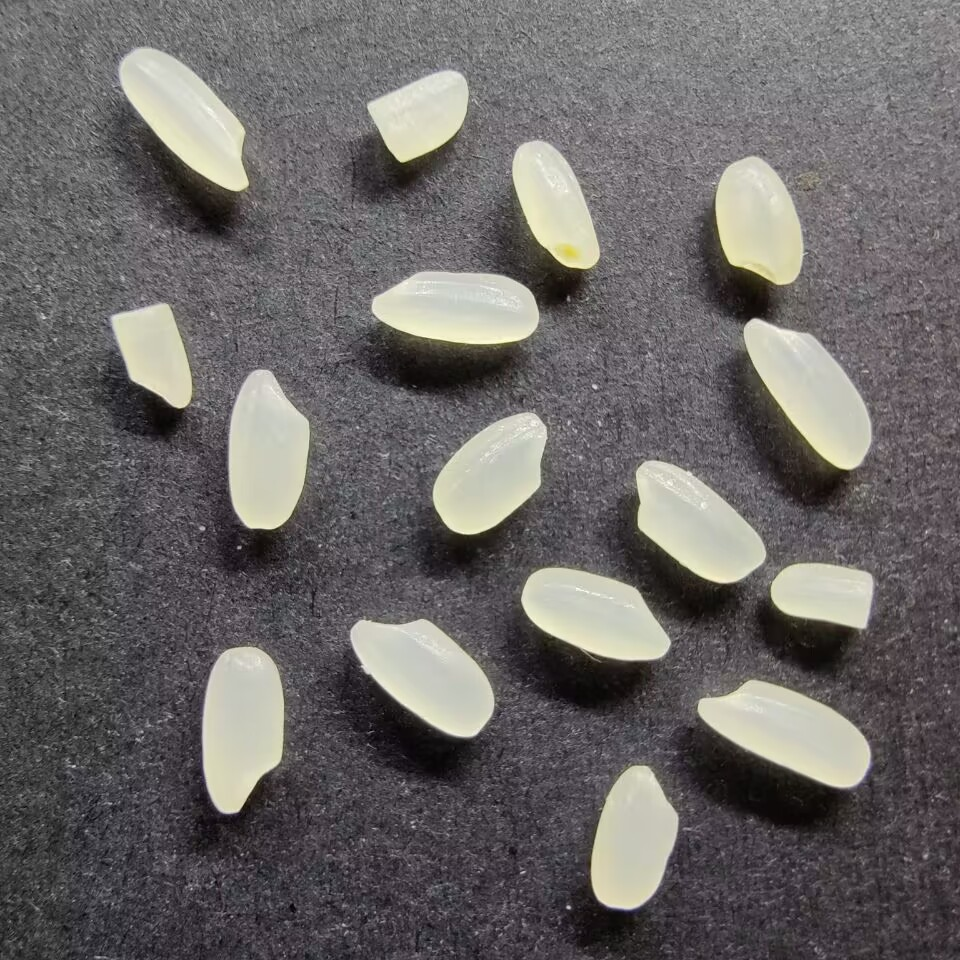broken: (368, 69, 471, 164), (109, 300, 192, 409), (771, 559, 877, 632)
rice: (742, 315, 875, 473), (117, 46, 251, 194), (696, 677, 871, 789), (347, 616, 495, 738), (635, 458, 766, 586), (519, 566, 672, 663), (430, 410, 548, 535), (198, 645, 284, 816), (228, 365, 311, 532), (589, 763, 679, 911), (369, 268, 539, 345), (714, 154, 805, 287), (510, 138, 600, 270)
